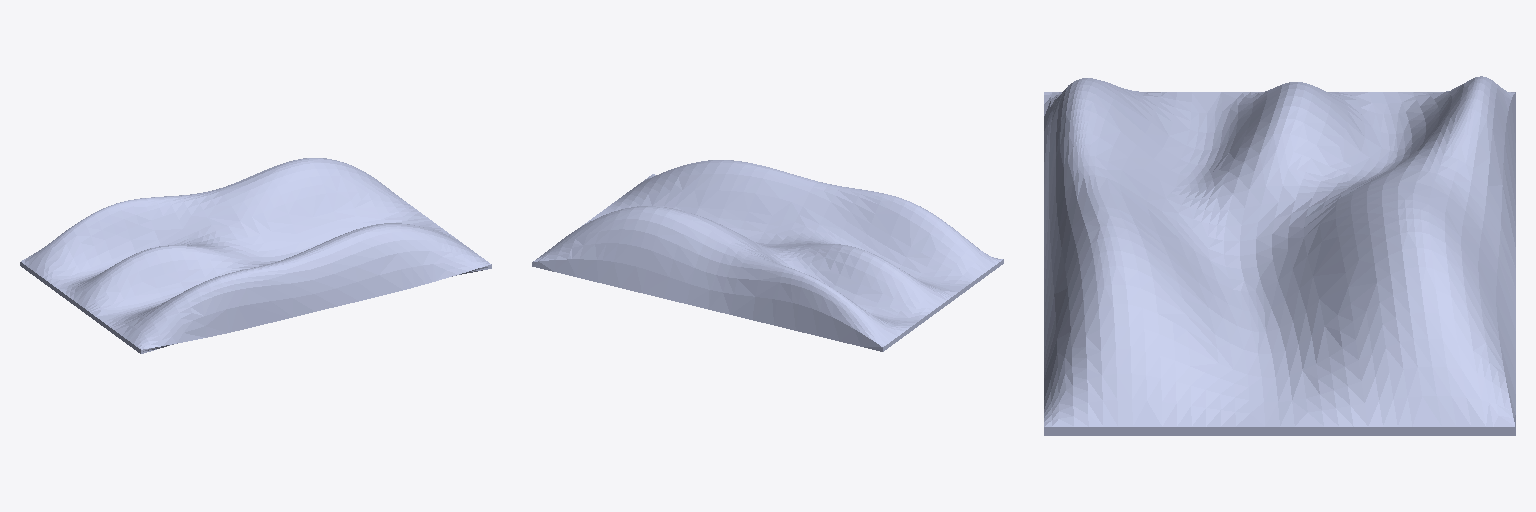
URDF robot description (floor_feature_2):
<?xml version="1.0" encoding="utf-8"?>
<!-- This URDF was automatically created by SolidWorks to URDF Exporter! Originally created by [author] ([email redacted]) 
     Commit Version: 1.6.0-1-g15f4949  Build Version: 1.6.7594.29634
     For more information, please see http://wiki.ros.org/sw_urdf_exporter -->
<robot
  name="floor_feature_2">
  <link
    name="base_link">
    <inertial>
      <origin
        xyz="0.209107332921913 -0.0779882404879977 0.0193180105020961"
        rpy="0 0 0" />
      <mass
        value="1.8635220679709" />
      <inertia
        ixx="0.00466029547656295"
        ixy="-0.00033581002047761"
        ixz="-0.000288620355502621"
        iyy="0.0185975215242265"
        iyz="-7.7294699119843E-05"
        izz="0.0225015013448354" />
    </inertial>
    <visual>
      <origin
        xyz="0 0 0"
        rpy="0 0 0" />
      <geometry>
        <mesh
          filename="package://floor_feature_2/meshes/base_link.STL" scale="20 30 20"/>
      </geometry>
      <material
        name="">
        <color
          rgba="0.792156862745098 0.819607843137255 0.933333333333333 1" />
      </material>
    </visual>
    <collision>
      <origin
        xyz="0 0 0"
        rpy="0 0 0" />
      <geometry>
        <mesh
          filename="package://floor_feature_2/meshes/base_link.STL" scale="20 20 20"/>
      </geometry>



    </collision>
  </link>

<gazebo reference = 'base_link'>
<material> Gazebo/Sand_Floor </material>
</gazebo>


<gazebo>
<static> true </static>
</gazebo>

</robot>

--- Facts derived from the render (not from the file) ---
3 views of the same robot in one strip: view 1: azimuth 30°, elevation 25°; view 2: azimuth 150°, elevation 25°; view 3: azimuth 270°, elevation 25° (orthographic).
Model floor_feature_2 with 1 links and 0 joints (none), rooted at base_link, posed all joints at 0.
Visible links, largest first — view 1: base_link; view 2: base_link; view 3: base_link.
Boxes of the visible links, x1,y1,x2,y2 form: base_link: [20, 158, 491, 353]; base_link: [532, 160, 1003, 351]; base_link: [1044, 76, 1515, 435].
Bounding box of the posed robot: 8 × 4.76 × 1.37 m (x, y, z).
Meshes: 1 distinct files referenced, 1 mesh visuals loaded (1 binary STL).